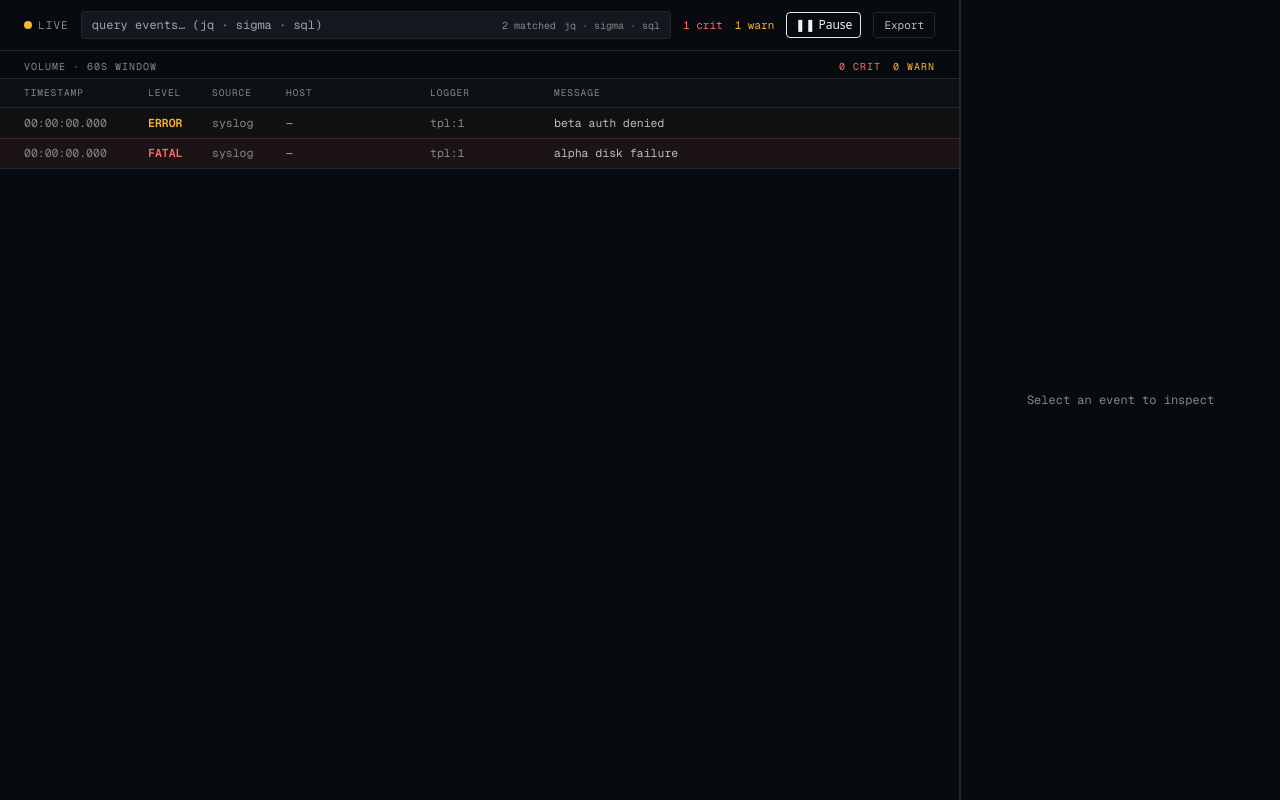
Test: EventsScreen › filters the matched rows when a query is entered
The image size is (1280, 800).
Expected: the text "2 matched" is shown, [502,18,556,32]
Type "severity_text: error" into the field with test id "event-query-field" at coordinates (293, 25), box [92,16,494,34]
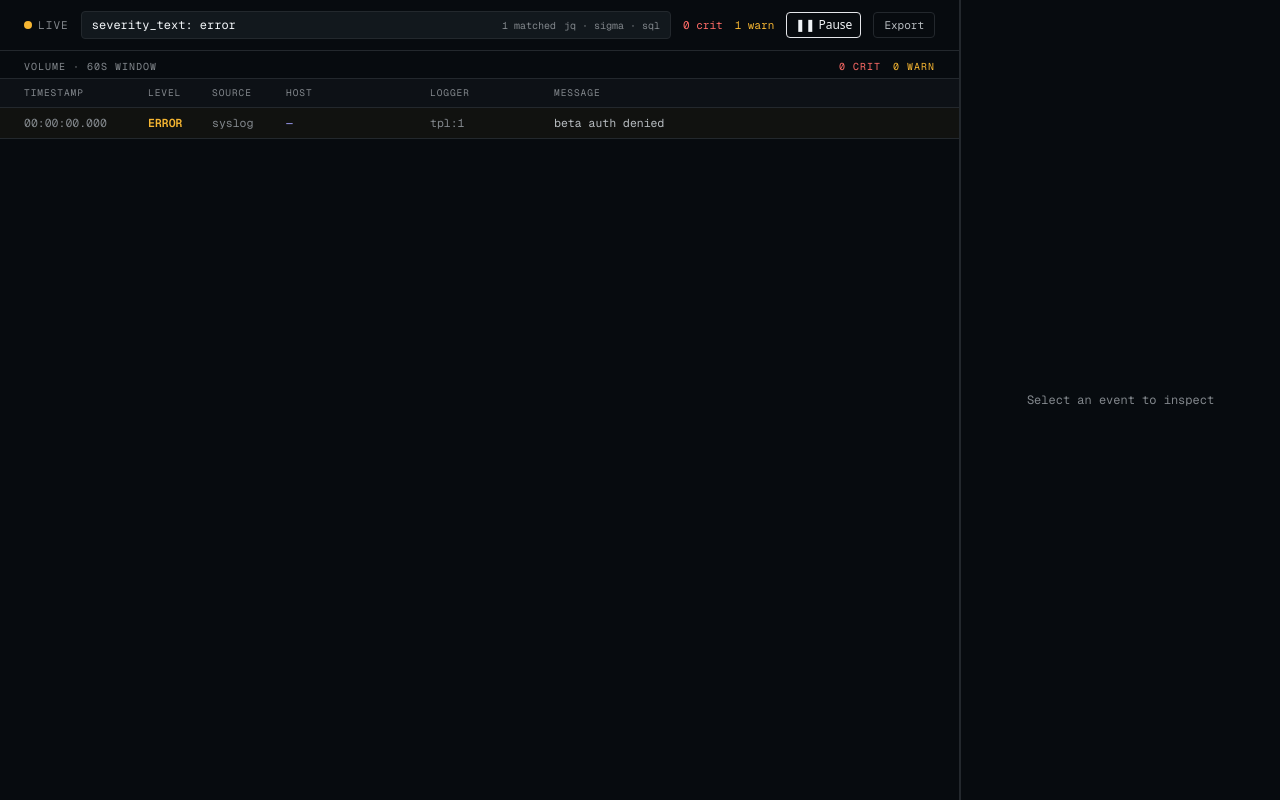
Expected: the text with test id "events-warn-count" shows "1", [735,18,741,32]
Expected: the text with test id "event-match-count" shows "1", [502,18,508,32]
Expected: the text with test id "events-crit-count" shows "0", [683,18,690,32]
